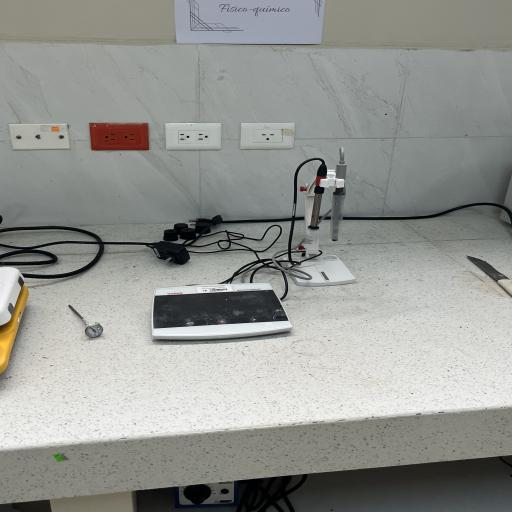Phmetro_Ohaus: (150, 278, 299, 351)
